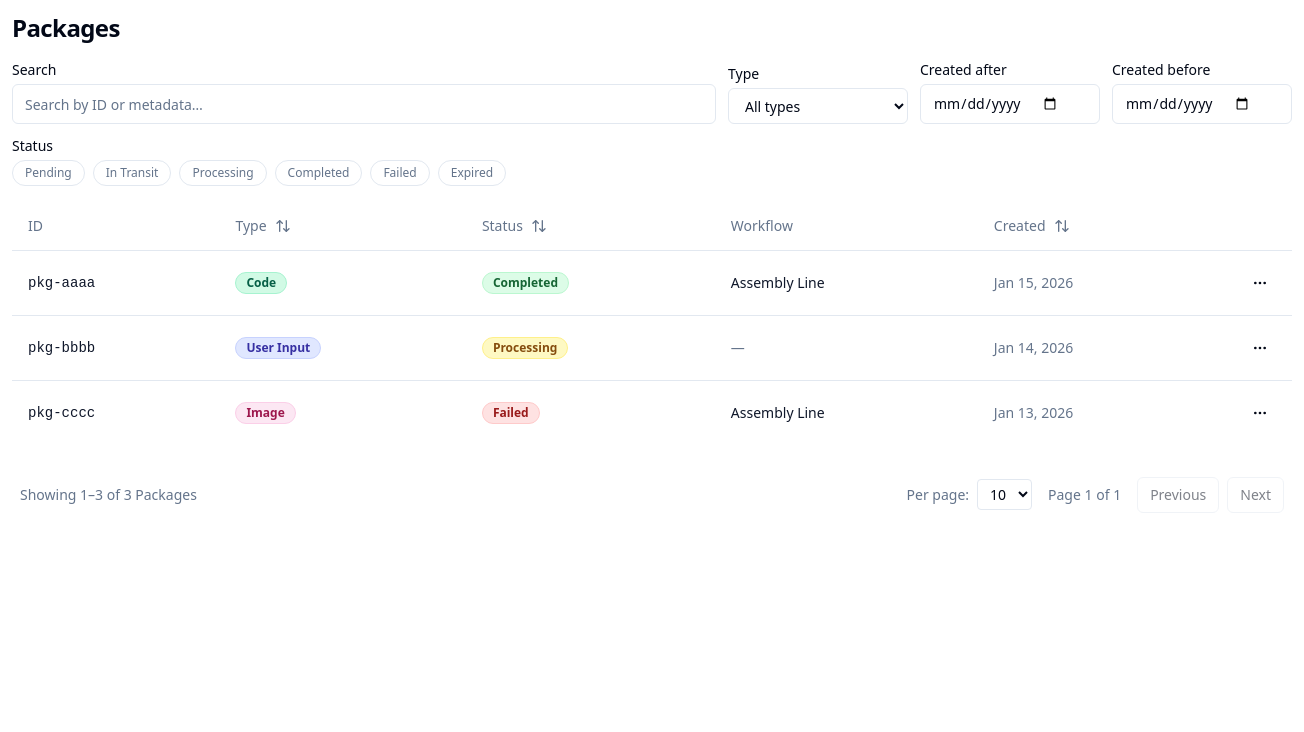
Test: PackageListPage › Actions dropdown › opens a dropdown with View action
The width and height of the screenshot is (1304, 732).
Expected: the link "pkg-aaaa" is shown, [28,274,95,290]
Click the button named "Open actions for" in the row of "pkg-aaaa" at (1260, 282), box [1244,266,1276,298]
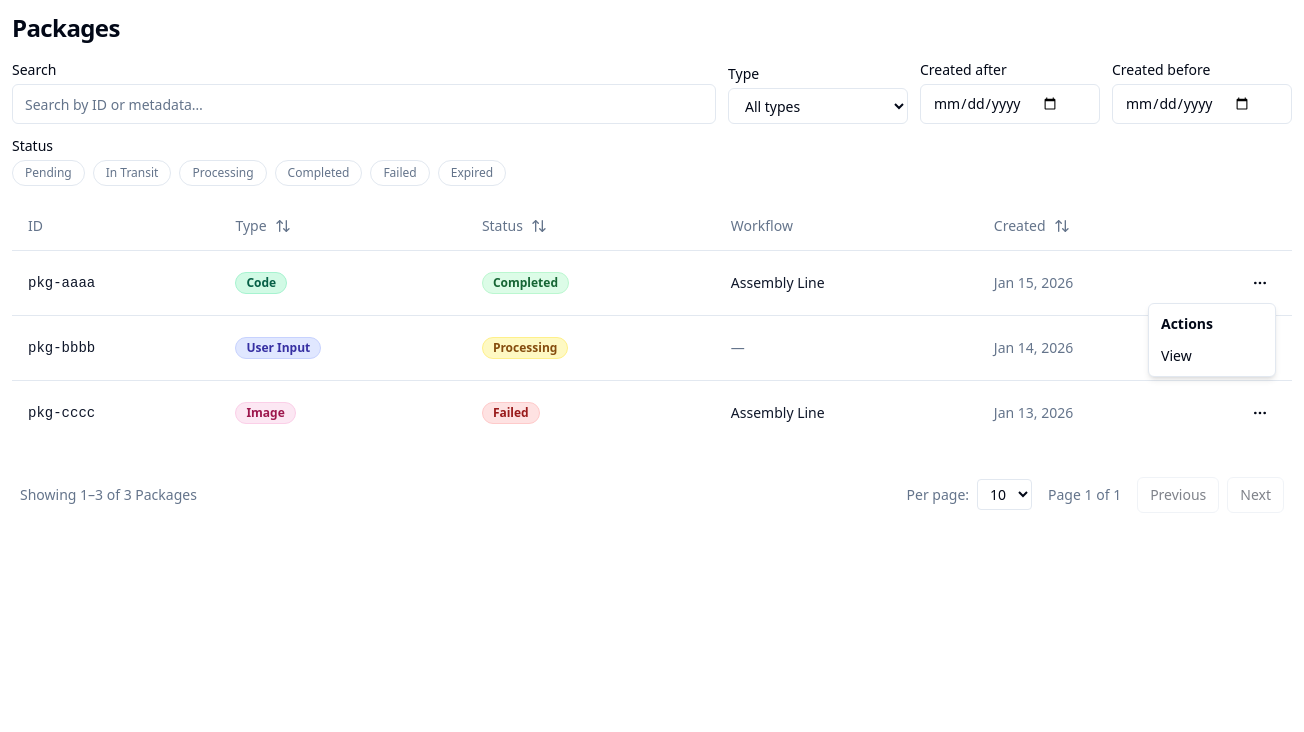
Now the menu item "View" is shown, box [1161,346,1192,365]
